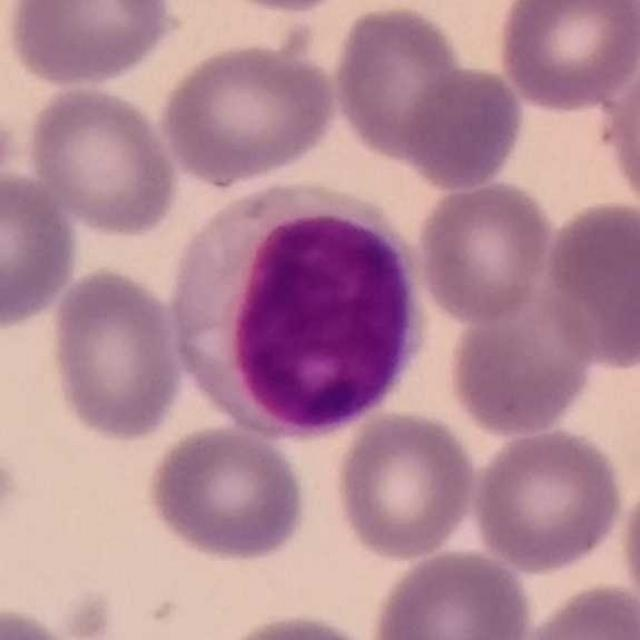Lymphocyte: (172, 173, 428, 442)
RBC: (156, 37, 342, 188), (441, 264, 600, 440), (328, 0, 486, 176), (20, 80, 184, 242), (45, 264, 187, 445), (141, 422, 312, 565), (468, 425, 626, 576), (330, 408, 480, 564), (413, 176, 558, 327), (538, 195, 640, 373), (399, 62, 528, 194), (493, 0, 640, 114), (0, 0, 184, 89), (368, 545, 536, 640), (0, 167, 83, 334), (512, 580, 640, 640), (596, 46, 640, 220), (209, 607, 382, 640), (1, 599, 95, 640), (616, 470, 640, 629), (194, 0, 362, 16)
